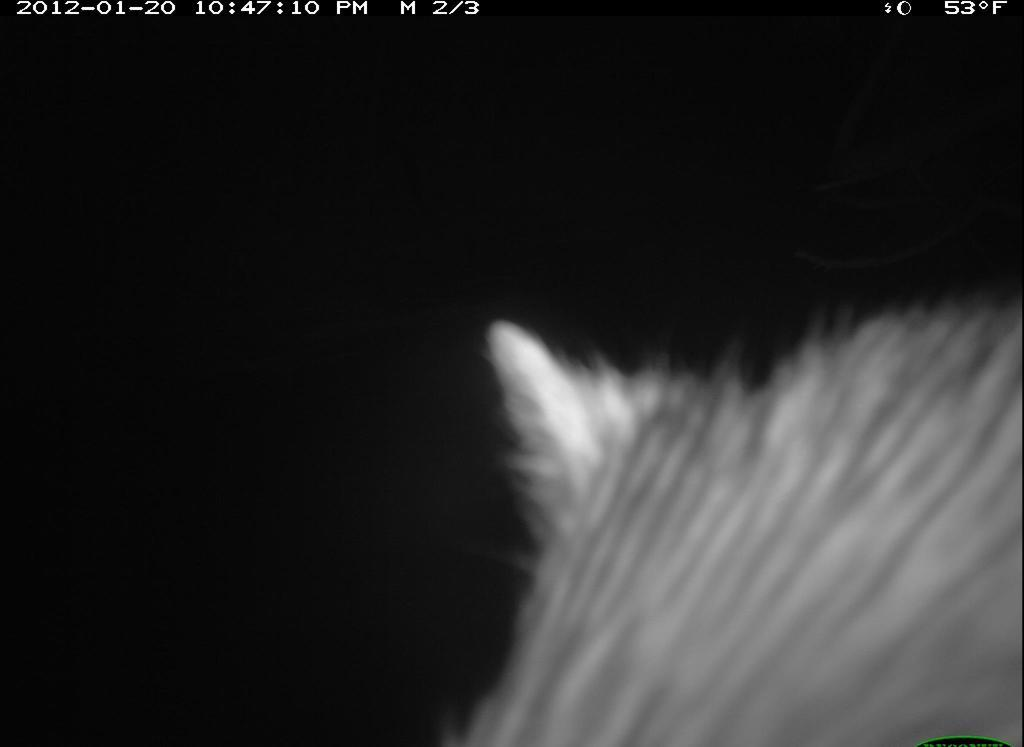raccoon: (429, 264, 1023, 742)
